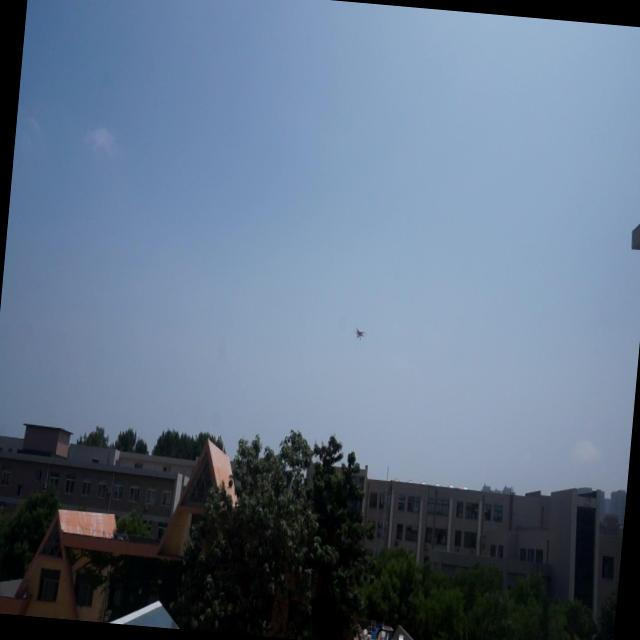drone: (352, 321, 365, 344)
